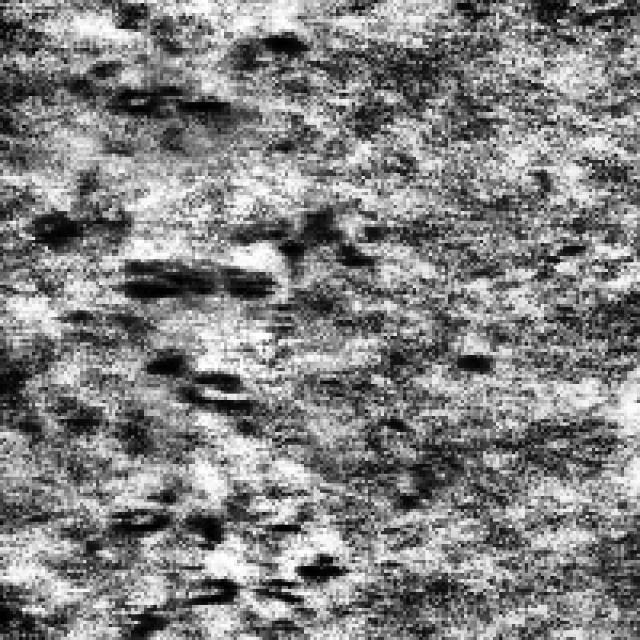Crazing: (115, 291, 346, 627), (70, 42, 278, 304), (60, 19, 298, 125)
